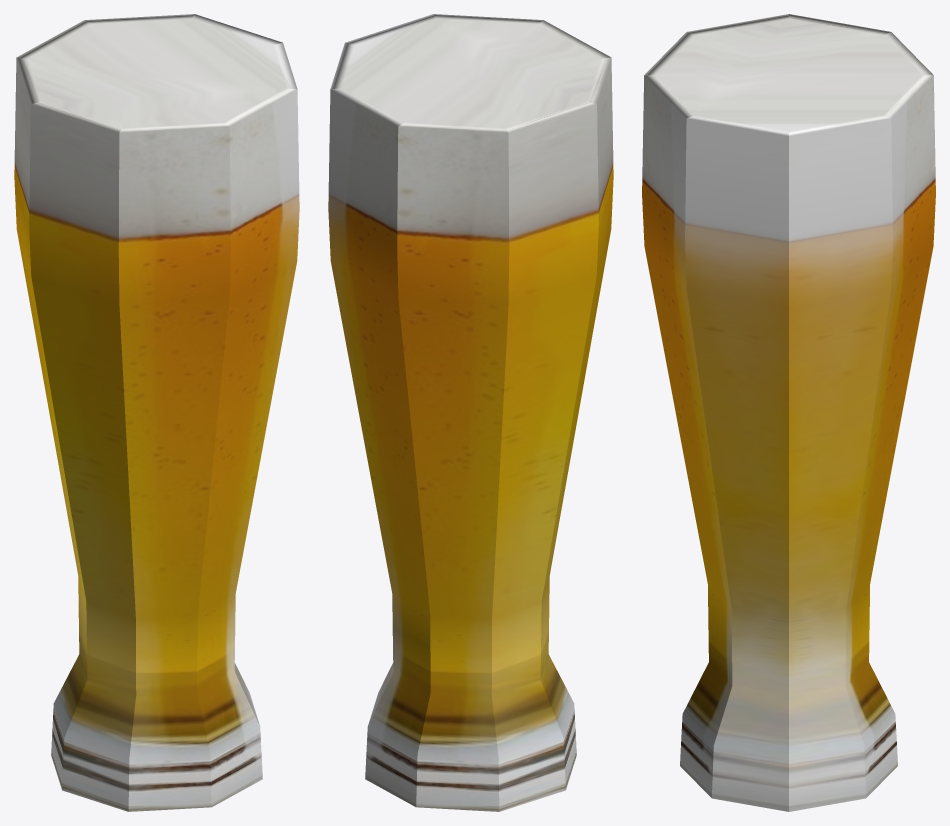
File: beer4m.fbx
3 renders of one model, left to right at view 1: azimuth 30°, elevation 25°; view 2: azimuth 150°, elevation 25°; view 3: azimuth 270°, elevation 25°, orthographic.
Parts seen in each view (by area): view 1: pCylinder6; view 2: pCylinder6; view 3: pCylinder6.
Boxes of the visible parts, <box> form: pCylinder6: <box>14,14,299,811</box>; pCylinder6: <box>328,14,613,811</box>; pCylinder6: <box>642,14,935,811</box>.
Bounding box in the file's own units: 1.89 × 4.91 × 1.89.
1 material, 1 textured.
